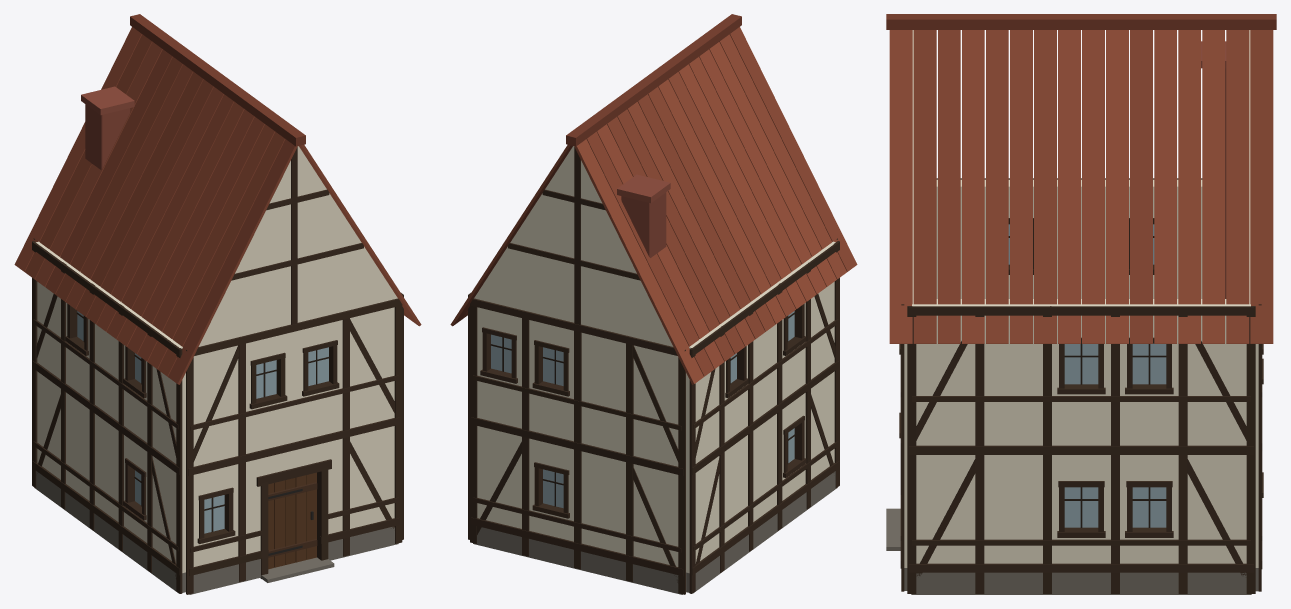
The model's file is home_2.glb.
The picture shows the model from 3 angles, left to right: view 1: azimuth 30°, elevation 25°; view 2: azimuth 150°, elevation 25°; view 3: azimuth 270°, elevation 25°; orthographic projection. The views are drawn at different scales.
Visible parts, largest first — view 1: home2_plaster, home2_tiles, home2_wood, home2_stone, home2_door_wood, home2_brick, home2_glass; view 2: home2_plaster, home2_tiles, home2_wood, home2_stone, home2_brick, home2_glass; view 3: home2_tiles, home2_plaster, home2_wood, home2_stone, home2_glass, home2_brick.
Boxes of the visible parts, box(x1,y1,x2,y2) form: home2_plaster: box(36, 146, 397, 572); home2_tiles: box(14, 14, 421, 384); home2_wood: box(32, 147, 403, 594); home2_stone: box(34, 471, 398, 594); home2_door_wood: box(268, 472, 317, 569); home2_brick: box(81, 86, 134, 169); home2_glass: box(77, 311, 328, 533); home2_plaster: box(474, 146, 835, 572); home2_tiles: box(450, 14, 857, 384); home2_wood: box(468, 147, 839, 594); home2_stone: box(473, 471, 837, 594); home2_brick: box(617, 174, 670, 257); home2_glass: box(491, 311, 794, 508); home2_tiles: box(886, 14, 1276, 343); home2_plaster: box(904, 30, 1258, 567); home2_wood: box(899, 178, 1263, 593); home2_stone: box(886, 508, 1258, 594); home2_glass: box(1008, 224, 1166, 527); home2_brick: box(1201, 41, 1226, 298).
Bounding box in the file's own units: 5.85 × 10.06 × 6.9.
